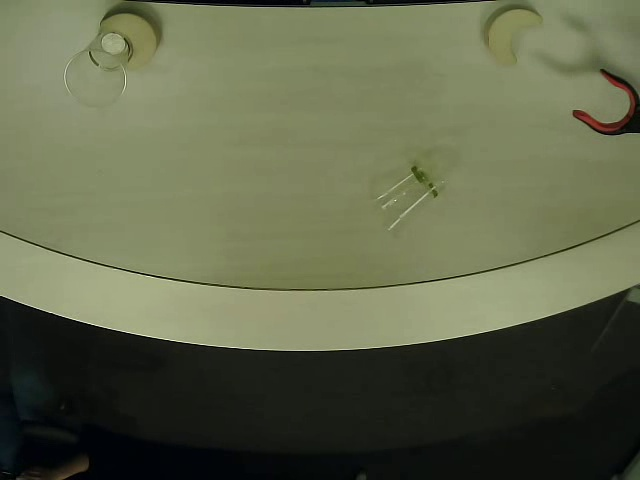Cup: (362, 162, 445, 242), (65, 32, 133, 107)
Deliver: (483, 3, 551, 71), (99, 6, 162, 72)
